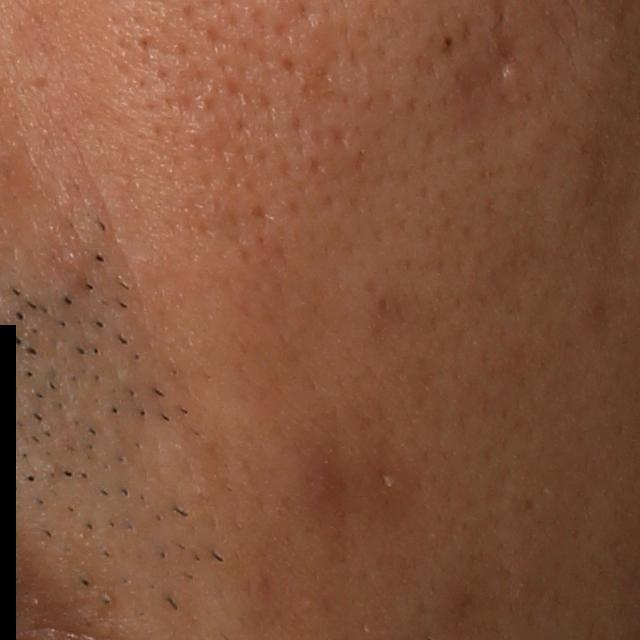atrophic_scar: (310, 54, 374, 103), (488, 20, 519, 88)
